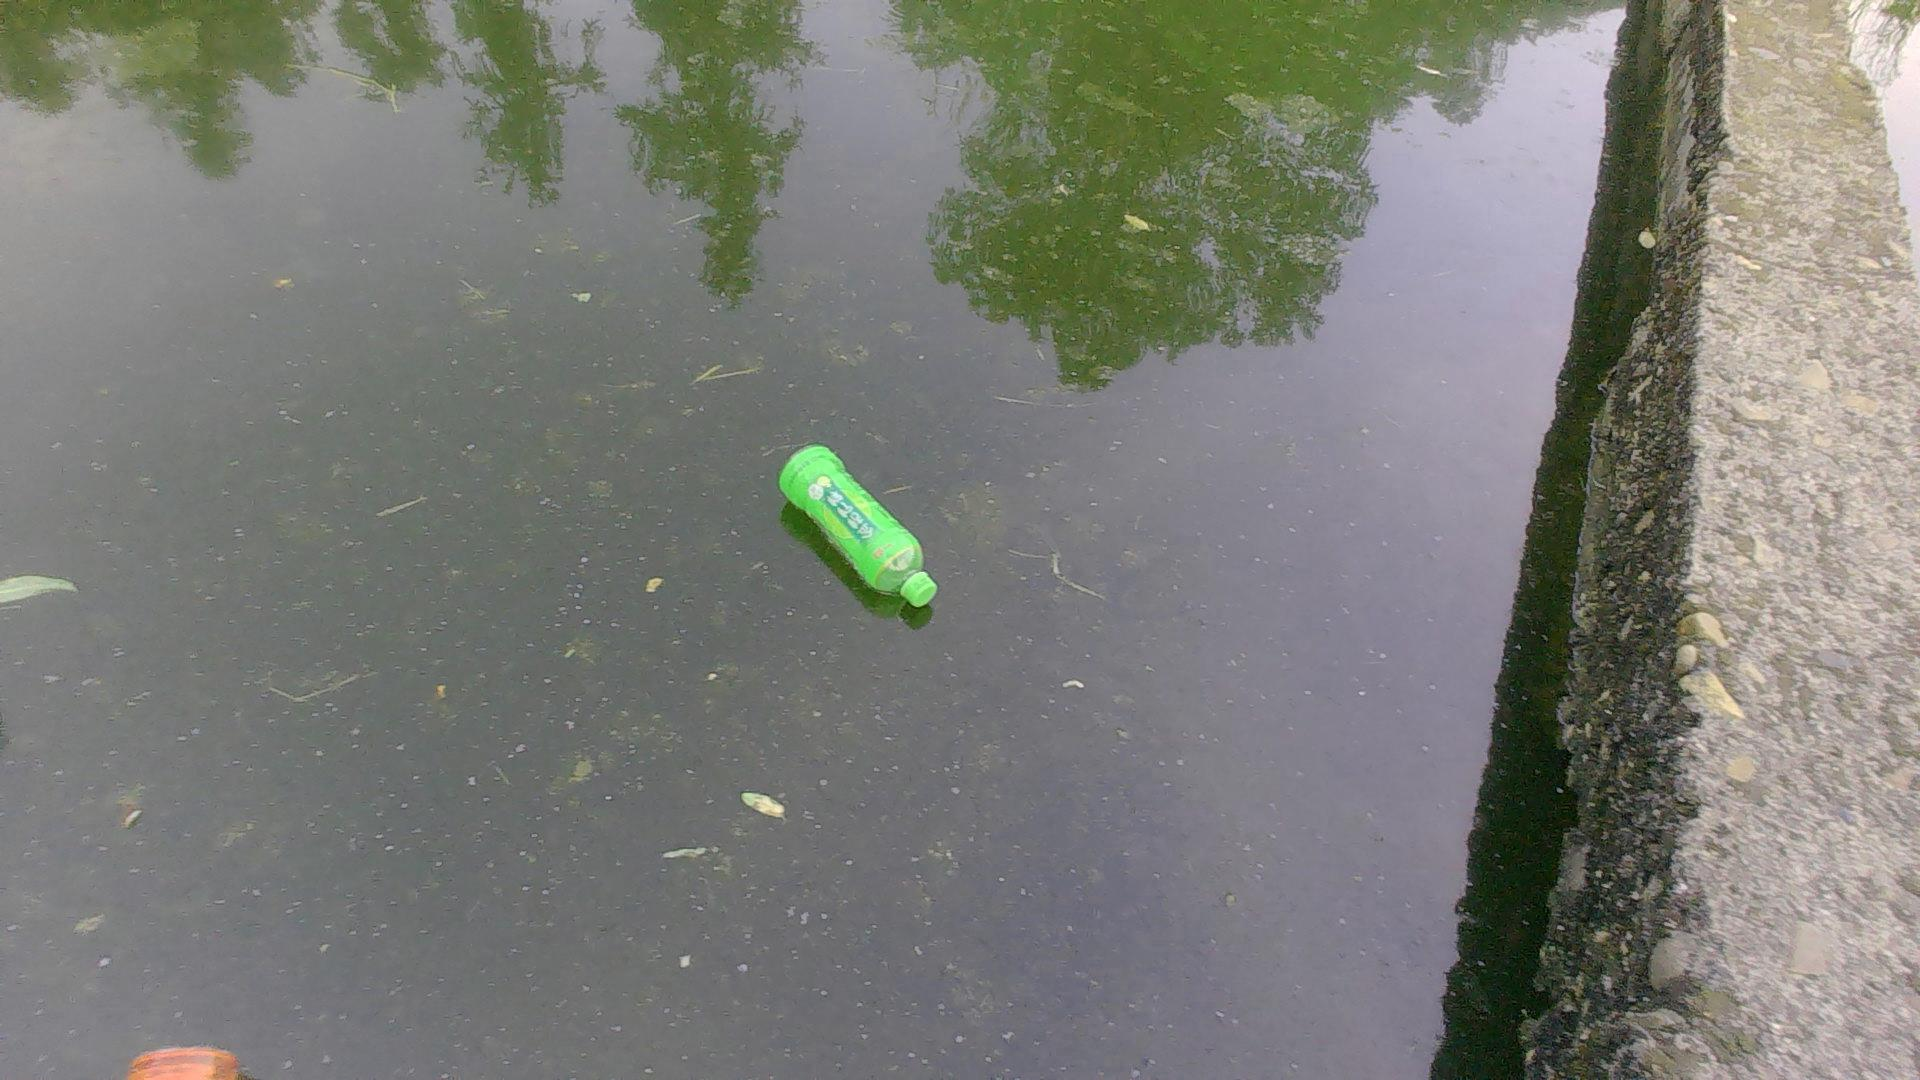Plastic: (775, 436, 953, 611)
